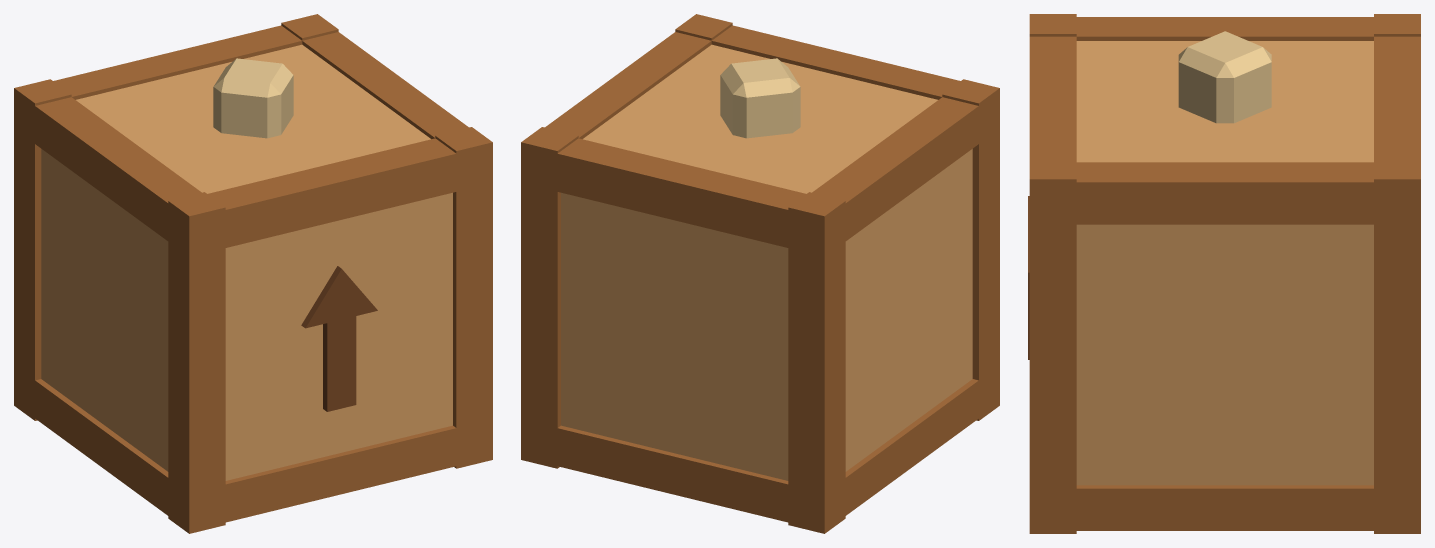
The model's file is WoodLootCrate.fbx.
The picture shows the model from 3 angles, left to right: view 1: azimuth 30°, elevation 25°; view 2: azimuth 150°, elevation 25°; view 3: azimuth 270°, elevation 25°; orthographic projection. The views are drawn at different scales.
Visible parts, largest first — view 1: WoodLootCrate; view 2: WoodLootCrate; view 3: WoodLootCrate.
Boxes of the visible parts, bbox=[...] form: WoodLootCrate: bbox=[14, 14, 492, 533]; WoodLootCrate: bbox=[521, 14, 999, 533]; WoodLootCrate: bbox=[1028, 14, 1420, 533].
Bounding box in the file's own units: 2.5 × 2.85 × 2.51.
1 material, 1 textured.
